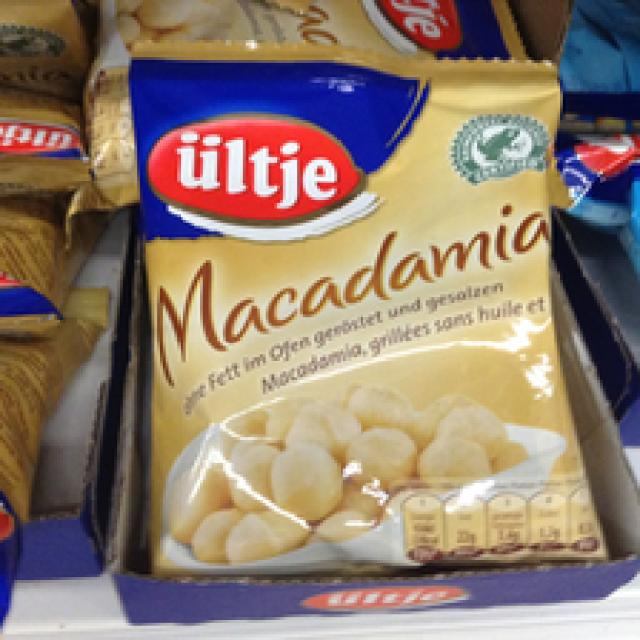groceries: (123, 37, 608, 574)
